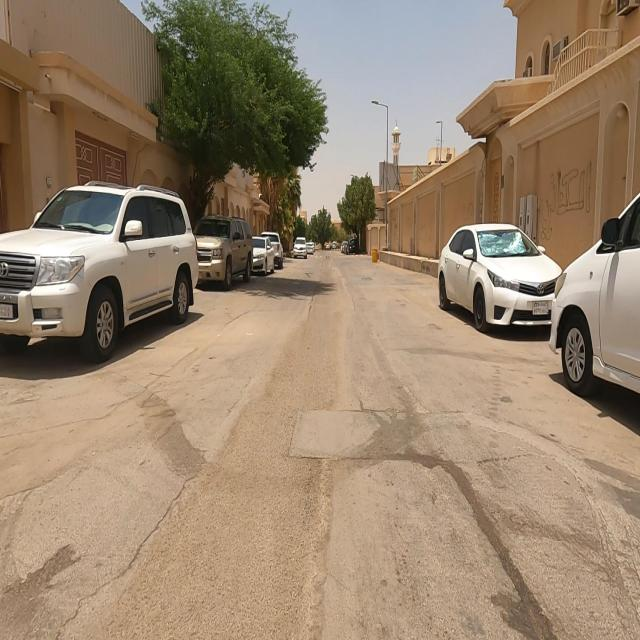Graffiti: (539, 161, 596, 243)
